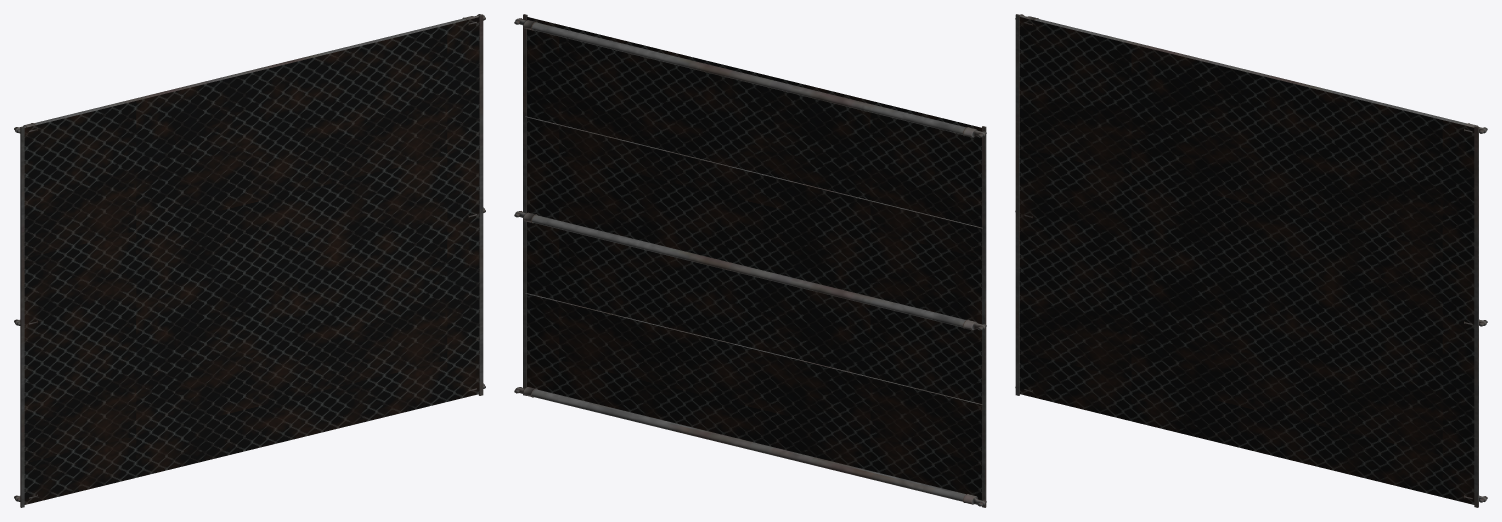
Rendered from fence_panel.glb.
3 views of the same model, side by side, from view 1: azimuth 30°, elevation 25°; view 2: azimuth 150°, elevation 25°; view 3: azimuth 330°, elevation 25° (orthographic).
Parts seen in each view (by area): view 1: fence_panel; view 2: fence_panel; view 3: fence_panel.
Boxes of the visible parts, x1,y1,x2,y2 form: fence_panel: (14,14,485,507); fence_panel: (514,14,986,507); fence_panel: (1015,14,1487,507).
Size of the model in its own units: 2 by 1.55 by 0.0508.
Materials: 2 (2 with a texture image).
